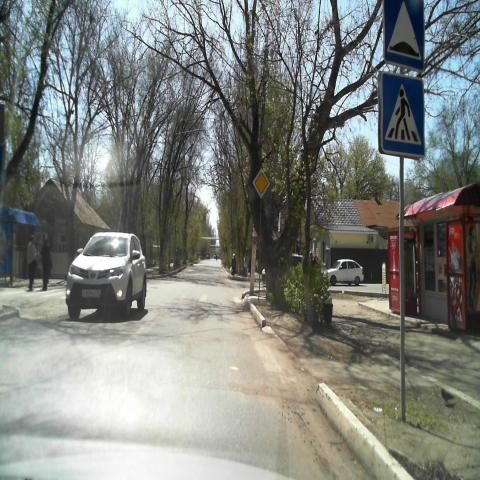2_1: (252, 166, 270, 198)
5_19_1: (378, 72, 426, 155)
5_20: (382, 0, 426, 69)
